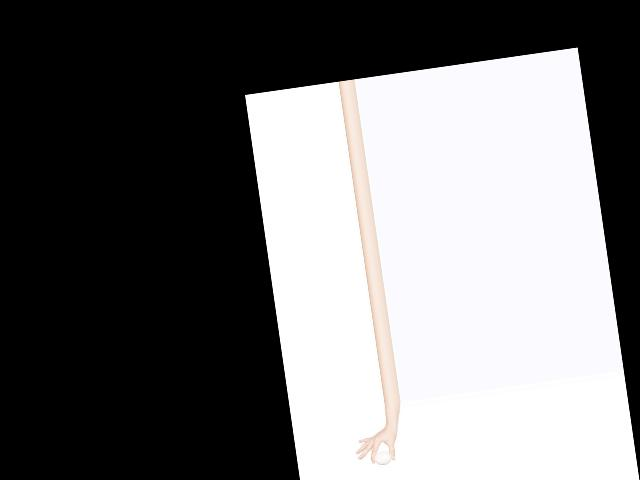egg: (373, 450, 392, 466)
